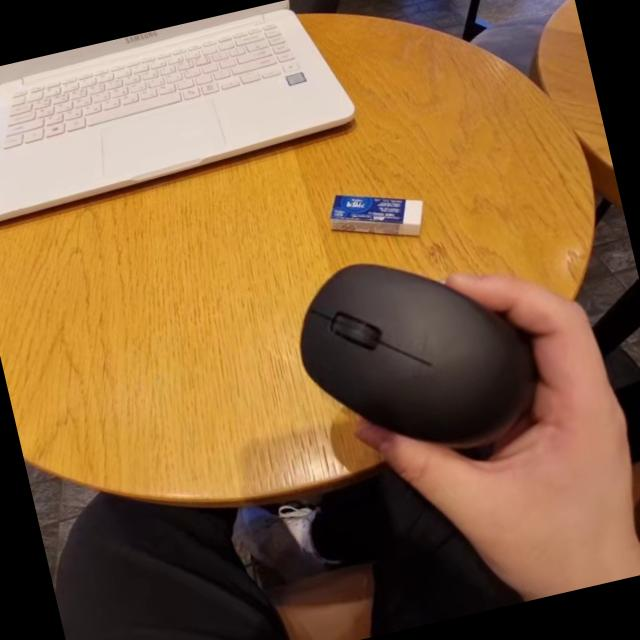eraser: (308, 164, 446, 255)
grab_mouse: (284, 197, 640, 602)
mouse: (259, 224, 538, 469)
